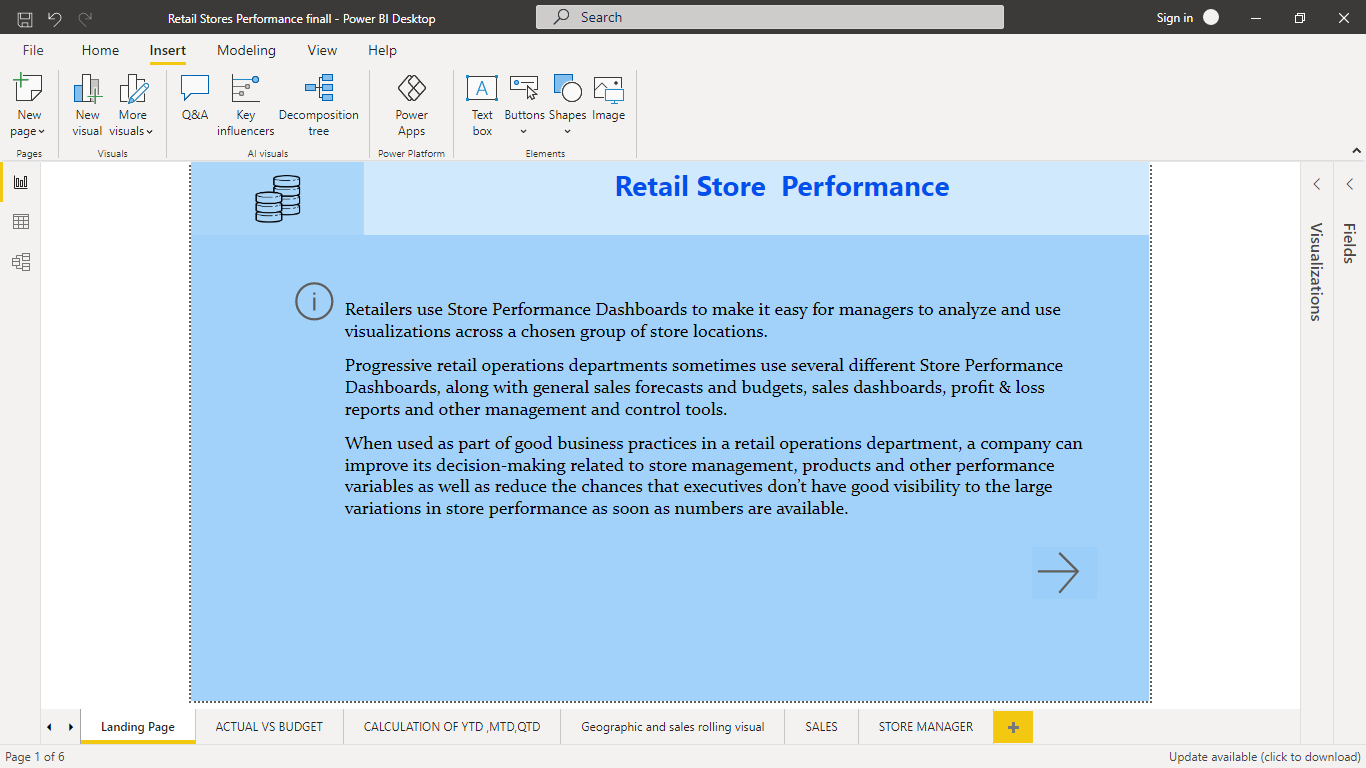

The dashboard page shown, as its layout file describes it:
{"tool":"powerbi","page":{"name":"Landing Page","canvas":[1280,720],"ordinal":0},"visuals":[{"type":"image","box":[0,0,231.1,97.5],"z":0},{"type":"textbox","box":[231.1,0,1048.6,97.5],"z":1000},{"type":"textbox","box":[0,97.4,1280.5,623.3],"z":3000},{"type":"textbox","box":[200.1,175.8,1022.2,347.5],"z":4000},{"type":"actionButton","box":[132.5,154.1,67.6,64.9],"z":5000},{"type":"actionButton","box":[1123.4,514.3,86.8,69.5],"z":5001}]}

Visuals, with their boxes on the page's 1280x720 design canvas (x1, y1, x2, y2). These are canvas units, not pixel positions in the 1366x768 screenshot, which may show the page scaled, cropped or inside an application window:
image: 0/0/231/98
textbox: 231/0/1280/98
textbox: 0/97/1280/721
textbox: 200/176/1222/523
actionButton: 132/154/200/219
actionButton: 1123/514/1210/584
